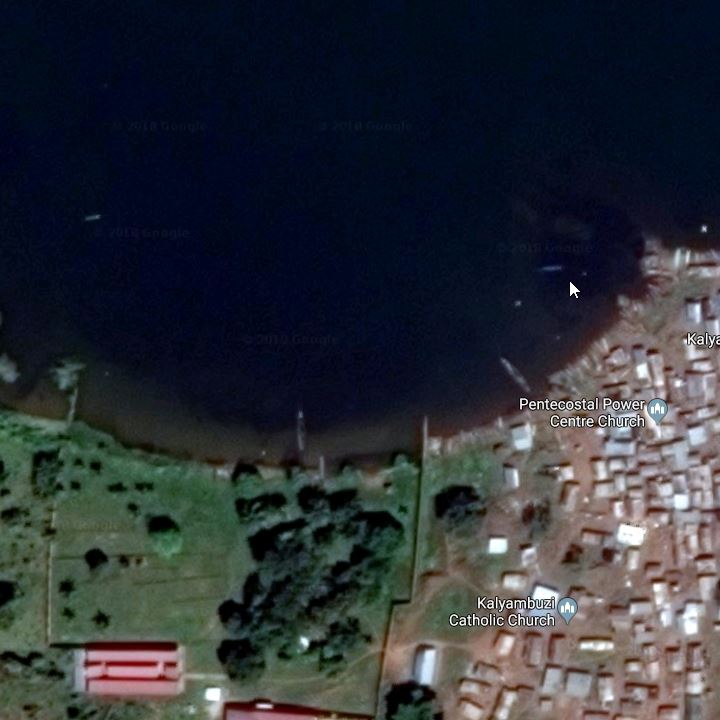boat: (496, 351, 534, 398), (291, 403, 309, 458), (530, 260, 569, 278), (576, 350, 592, 377), (556, 370, 574, 392), (568, 357, 585, 379), (561, 363, 575, 386), (80, 213, 106, 225), (673, 242, 682, 276), (681, 246, 691, 275), (586, 339, 599, 361), (600, 333, 613, 354), (593, 337, 604, 361)
